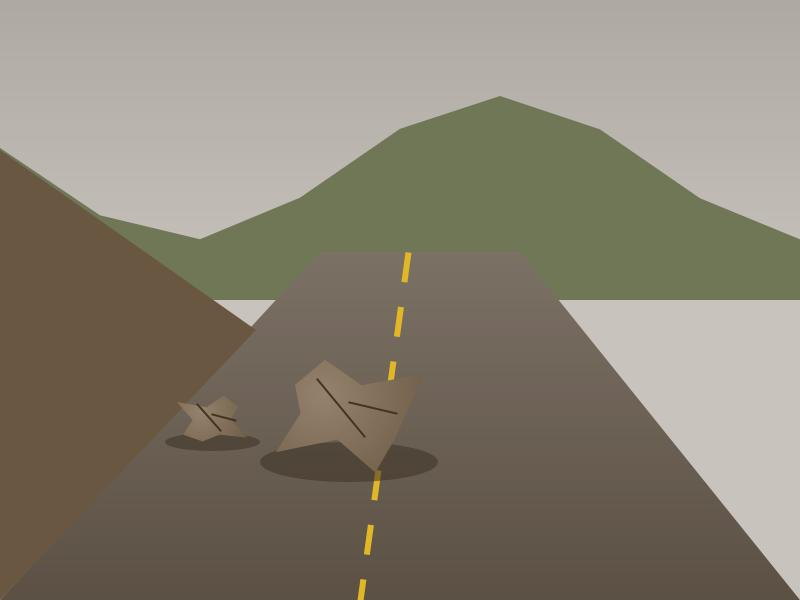ROAD_OBSTACLE: (270, 356, 428, 471), (175, 394, 250, 446)
